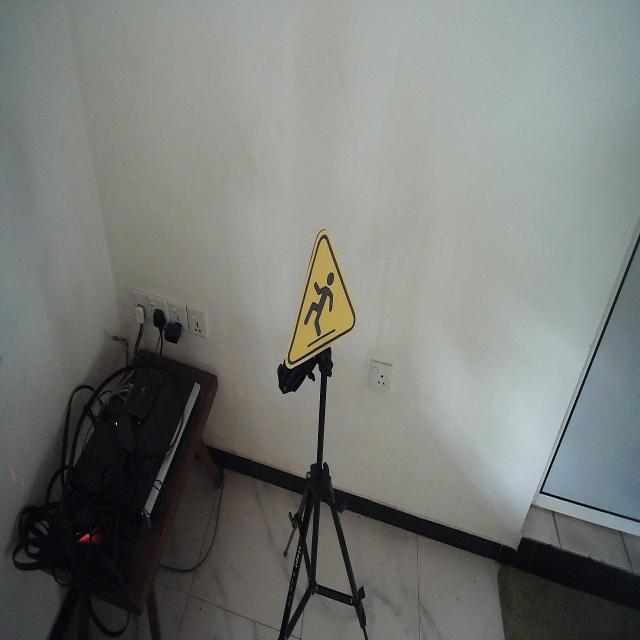slippery_sign: (284, 228, 359, 372)
